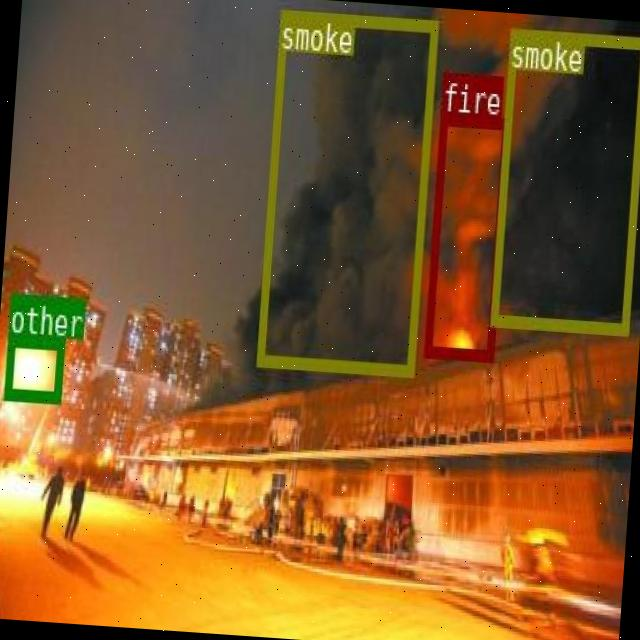fire: (422, 111, 509, 358)
smoke: (256, 8, 437, 374), (488, 27, 640, 332)
